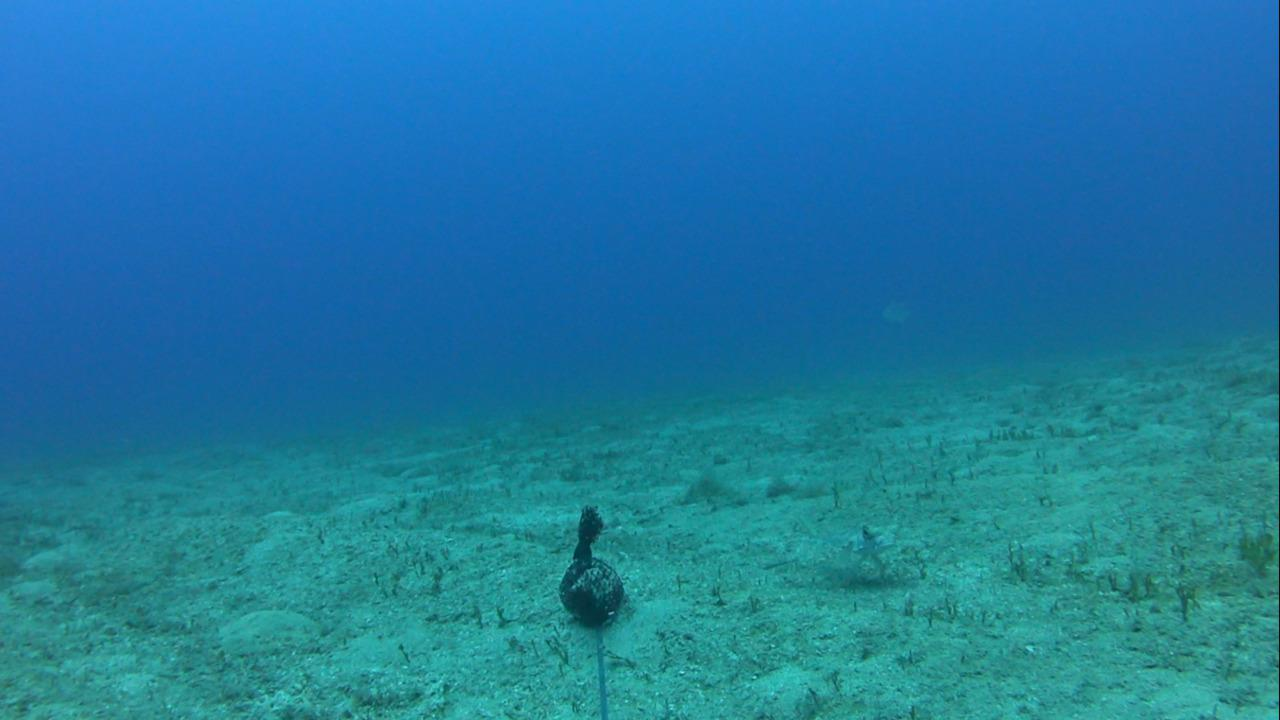dactylopterus: (786, 511, 911, 582)
